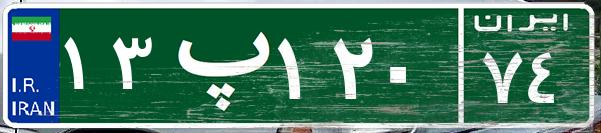0: (385, 28, 445, 110)
1: (273, 28, 330, 110), (57, 26, 110, 107)
2: (330, 28, 385, 110)
3: (110, 28, 158, 105)
4: (525, 38, 570, 115)
7: (475, 38, 525, 113)
پ: (158, 15, 273, 115)
